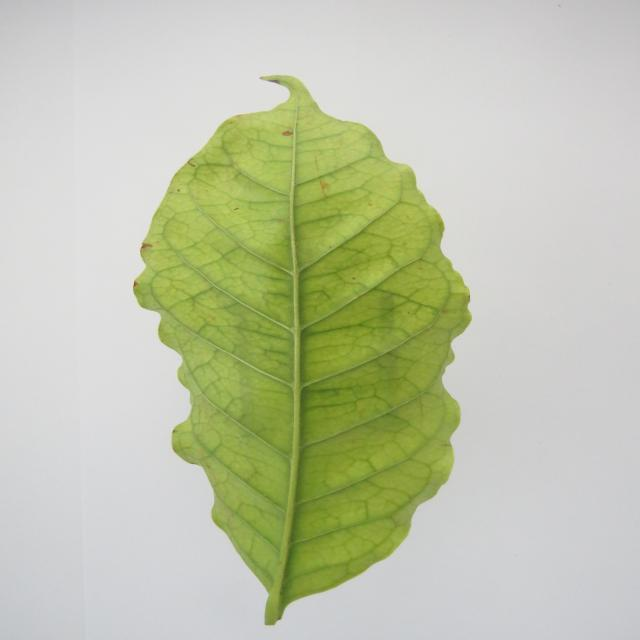DeficienciaNutricional-Calcio: (135, 76, 470, 624)
